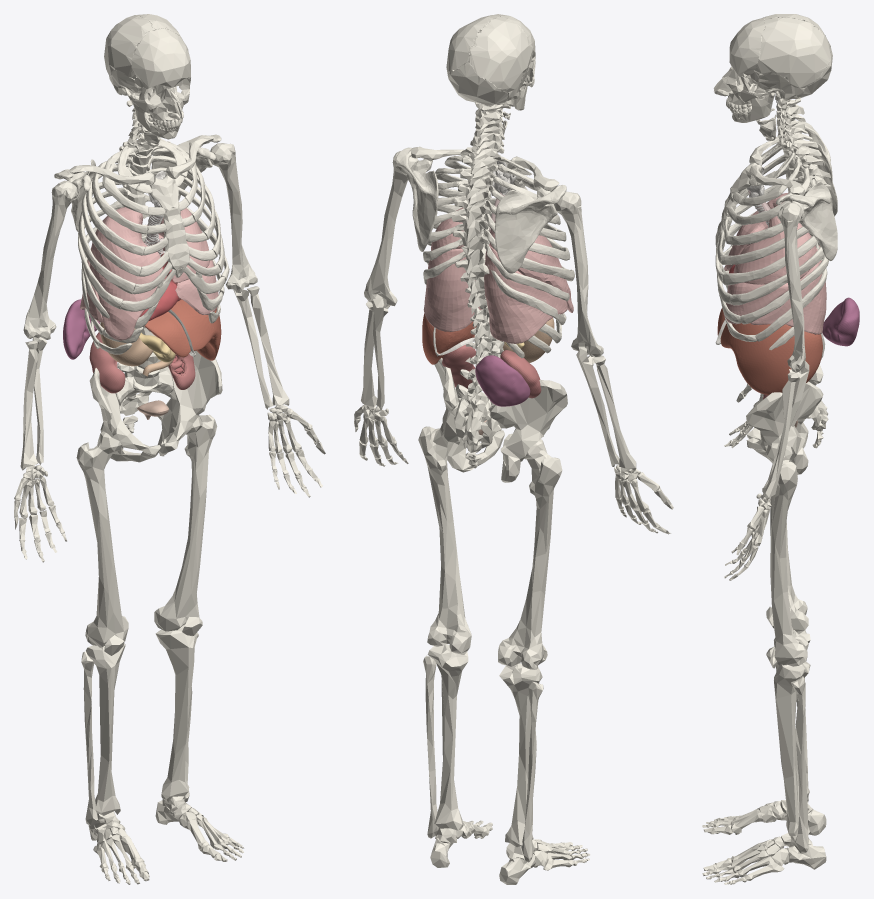
Rendered from healthguardian-organs-skeleton-clean-batched.glb.
The picture shows the model from 3 angles, left to right: view 1: azimuth 30°, elevation 25°; view 2: azimuth 150°, elevation 25°; view 3: azimuth 270°, elevation 25°; orthographic projection. The views are drawn at different scales.
Parts seen in each view (by area): view 1: bone_ribcage__batched, bone_skull__batched, lungs_pulmonary_parenchyma, bone_pelvis__batched, bone_left_femur__batched, bone_right_femur__batched, bone_spine__batched, bone_right_tibia__batched, bone_right_hand__batched, bone_left_tibia__batched, bone_left_hand__batched, bone_left_humerus__batched (+16 smaller); view 2: bone_spine__batched, lungs_pulmonary_parenchyma, bone_ribcage__batched, bone_skull__batched, bone_scapulae__batched, bone_pelvis__batched, bone_left_femur__batched, bone_right_femur__batched, bone_right_tibia__batched, bone_left_tibia__batched, bone_left_humerus__batched, bone_right_humerus__batched (+15 smaller); view 3: bone_skull__batched, bone_ribcage__batched, lungs_pulmonary_parenchyma, bone_right_femur__batched, liver_parenchyma, bone_pelvis__batched, bone_right_tibia__batched, bone_scapulae__batched, bone_spine__batched, bone_right_foot__batched, bone_right_humerus__batched, bone_right_hand__batched (+10 smaller).
Part boxes in pixels (x1,y1,x2,y2): bone_ribcage__batched: (78,138,229,354); bone_skull__batched: (104,14,190,146); lungs_pulmonary_parenchyma: (80,207,218,340); bone_pelvis__batched: (89,350,222,462); bone_left_femur__batched: (76,431,128,647); bone_right_femur__batched: (154,414,217,631); bone_spine__batched: (115,112,173,433); bone_right_tibia__batched: (155,624,197,802); bone_right_hand__batched: (201,405,325,861); bone_left_tibia__batched: (86,643,125,815); bone_left_hand__batched: (14,465,149,884); bone_left_humerus__batched: (23,180,77,339); bone_spine__batched: (451,111,504,468); lungs_pulmonary_parenchyma: (423,207,573,343); bone_ribcage__batched: (423,149,574,358); bone_skull__batched: (446,14,535,135); bone_scapulae__batched: (395,147,566,273); bone_pelvis__batched: (434,358,567,482); bone_left_femur__batched: (498,439,562,669); bone_right_femur__batched: (418,422,471,654); bone_right_tibia__batched: (427,644,468,830); bone_left_tibia__batched: (499,663,542,847); bone_left_humerus__batched: (554,191,603,356); bone_right_humerus__batched: (364,151,418,308); bone_skull__batched: (713,14,832,140); bone_ribcage__batched: (715,142,828,350); lungs_pulmonary_parenchyma: (723,192,826,334); bone_right_femur__batched: (766,443,808,666); liver_parenchyma: (717,308,822,395); bone_pelvis__batched: (746,365,823,474); bone_right_tibia__batched: (774,661,810,835); bone_scapulae__batched: (776,121,837,260); bone_spine__batched: (776,105,831,448); bone_right_foot__batched: (731,833,826,880); bone_right_humerus__batched: (777,202,805,372); bone_right_hand__batched: (702,493,771,884).
Size of the model in its own units: 0.6687 by 1.7 by 0.2901.
